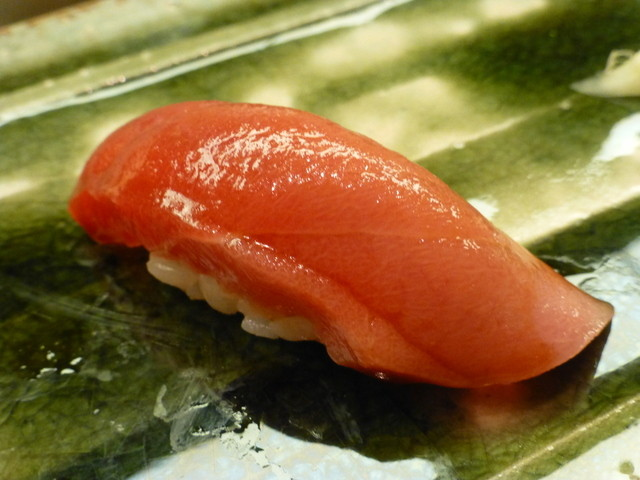medium_fatty_tuna: (66, 99, 614, 399)
